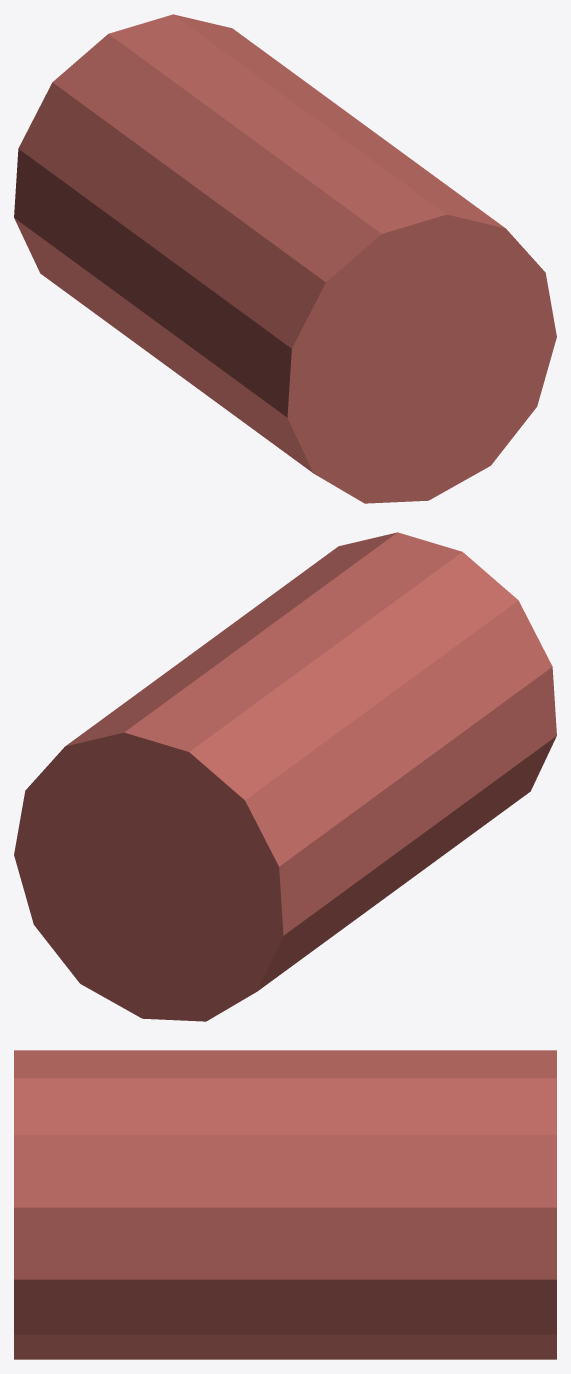
Rendered from cola.glb.
3 views of the same model, one above another, from view 1: azimuth 30°, elevation 25°; view 2: azimuth 150°, elevation 25°; view 3: azimuth 270°, elevation 25° (orthographic).
Parts seen in each view (by area): view 1: geometry_0; view 2: geometry_0; view 3: geometry_0.
Part boxes in pixels (bbox=[...]): geometry_0: bbox=[14, 14, 556, 503]; geometry_0: bbox=[14, 532, 556, 1021]; geometry_0: bbox=[14, 1050, 556, 1359].
Size of the model in its own units: 0.0654 by 0.0654 by 0.115.
